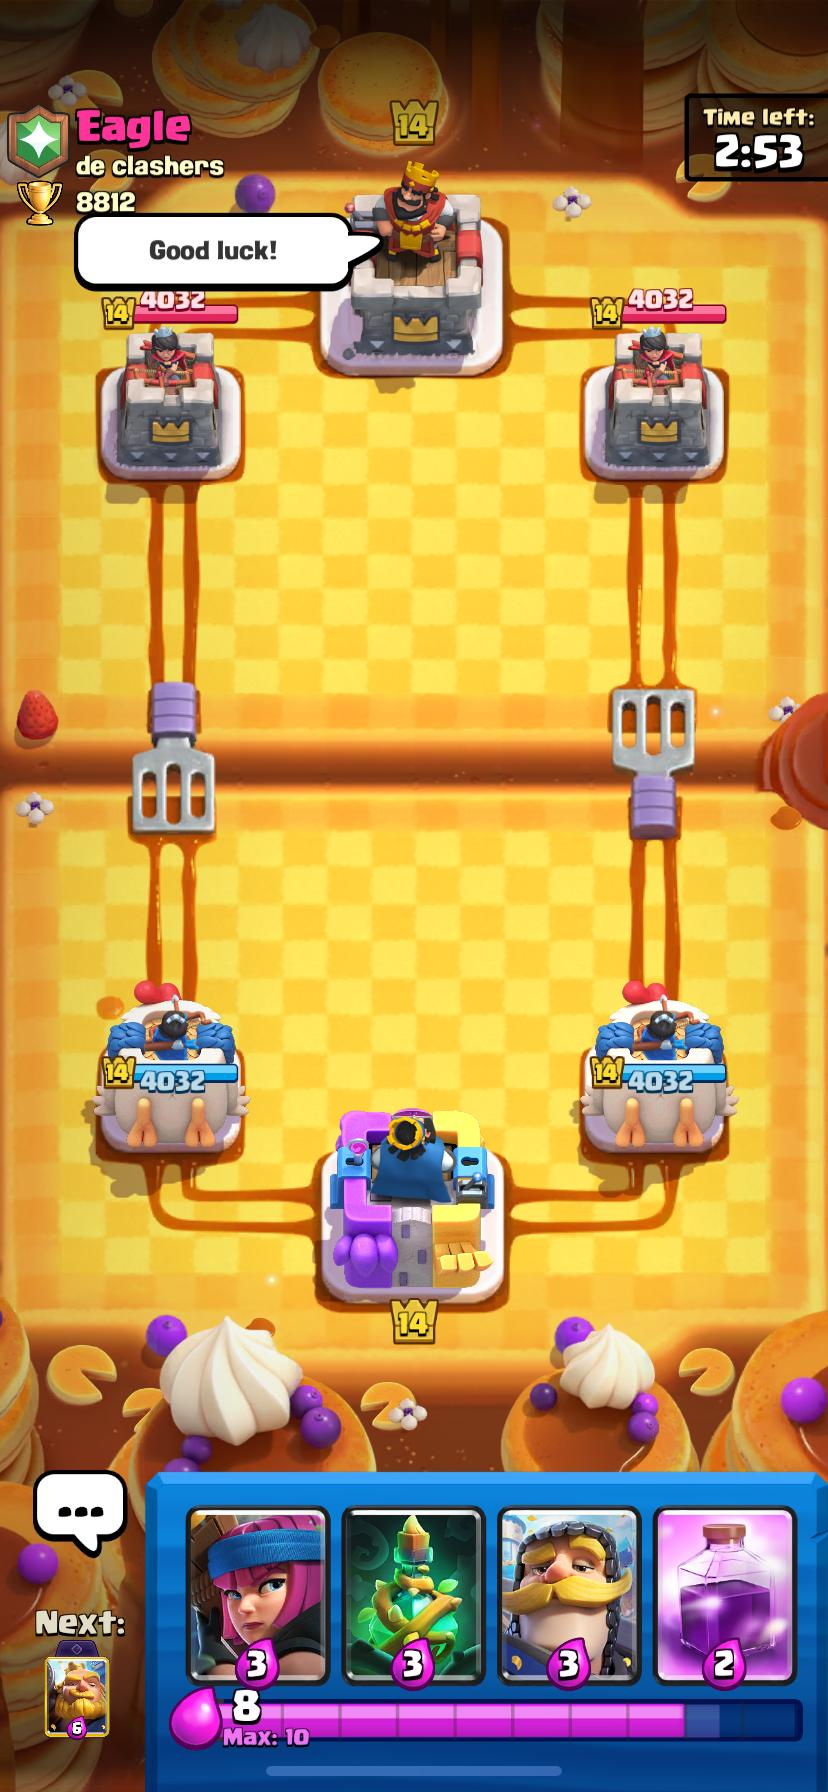EKingTower: (337, 163, 502, 374)
EnemyPrincessTower: (101, 325, 241, 480), (586, 327, 723, 480)
OwnKingTower: (331, 1109, 493, 1301)
OwnPrincessTower: (93, 983, 248, 1151), (581, 983, 737, 1151)
